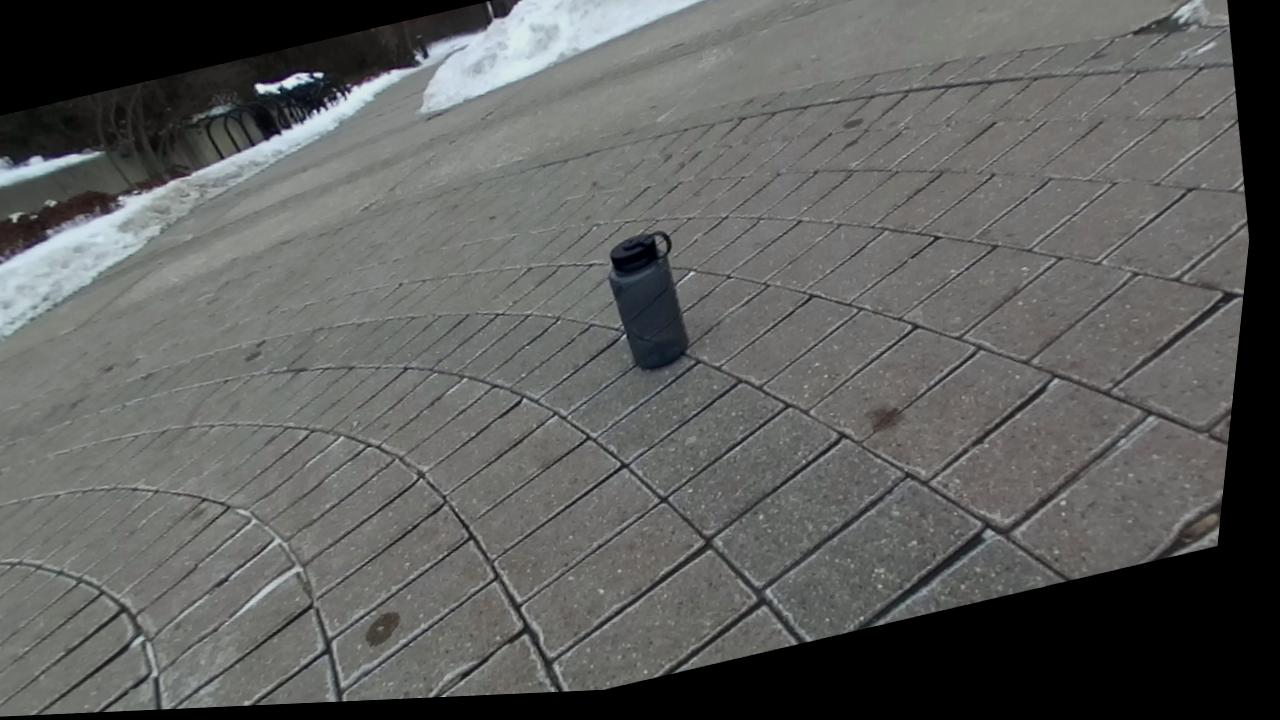bottle: (608, 230, 688, 368)
